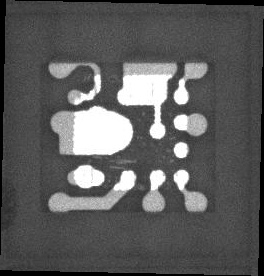NO_DIE: (40, 62, 213, 213)
